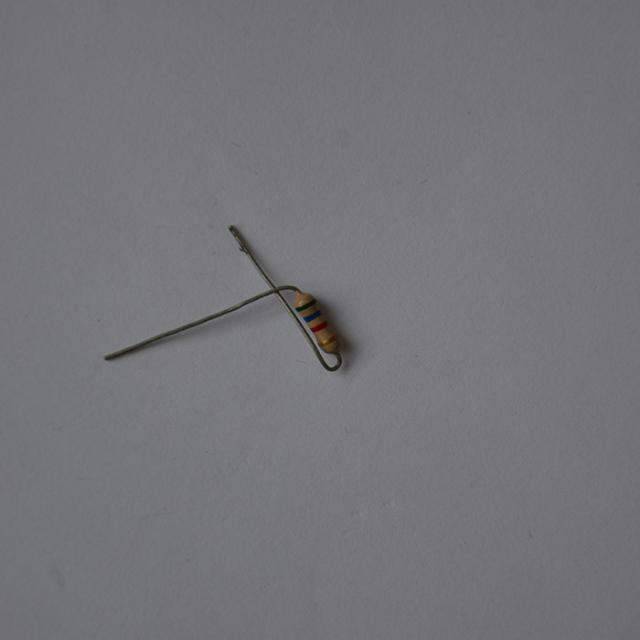blue: (304, 311, 321, 322)
gold: (320, 335, 336, 347)
green: (293, 298, 315, 311)
red: (309, 320, 327, 332)
resistor: (285, 290, 350, 357)
